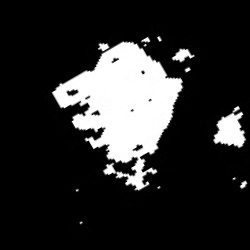crack: (175, 48, 192, 61)
pinhole: (142, 36, 151, 44), (239, 181, 248, 188), (157, 184, 161, 190), (79, 221, 84, 225), (186, 66, 190, 71), (158, 38, 163, 40), (75, 188, 79, 190)
spot: (53, 40, 182, 190), (215, 106, 244, 148)
